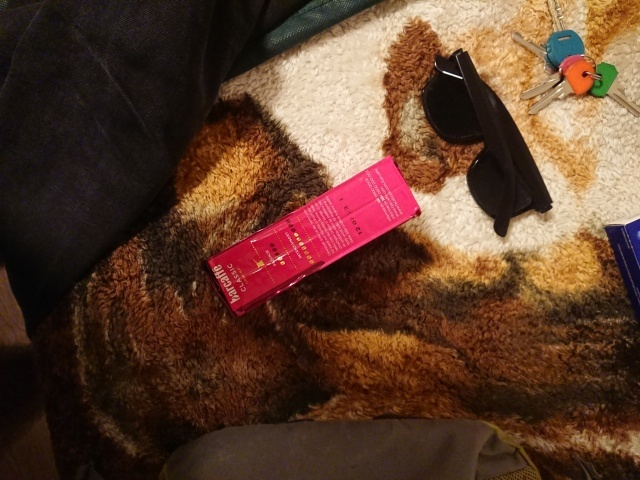Barcaffe Classic Original 225g: (200, 150, 425, 321)
